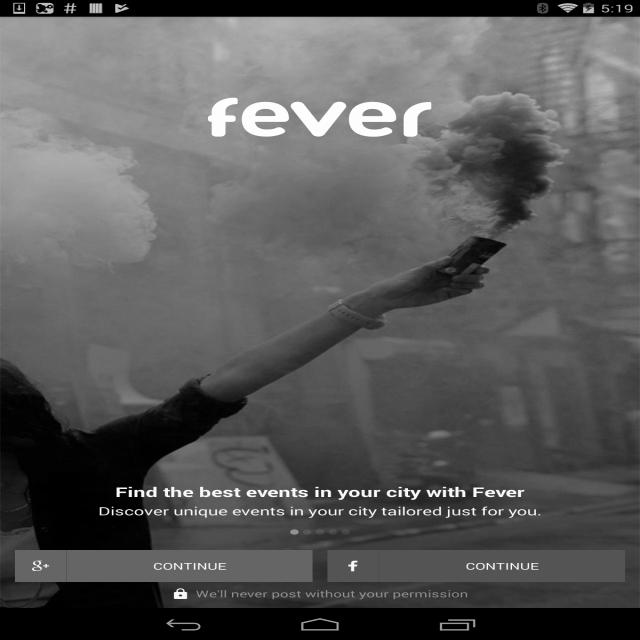Button: (323, 544, 632, 586), (7, 545, 318, 585)
TextView: (94, 483, 545, 518), (197, 93, 437, 142)
